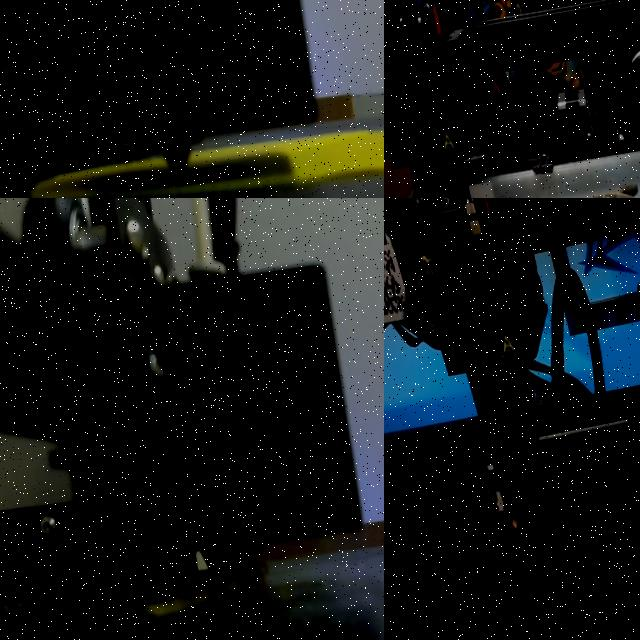spaghetti: (143, 553, 269, 620)
